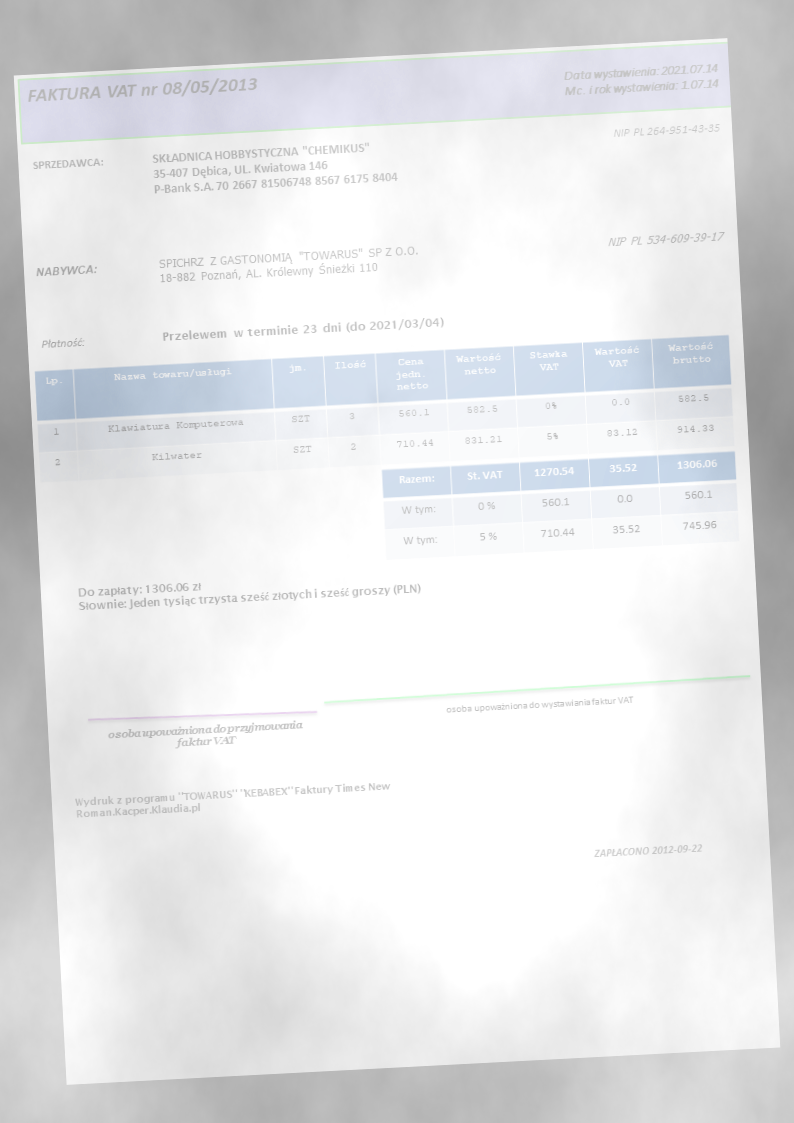Table: (32, 334, 735, 484), (380, 450, 741, 560)
TextBox: (76, 568, 423, 615), (149, 137, 401, 197), (72, 779, 393, 822), (156, 243, 422, 285), (160, 314, 446, 344), (24, 74, 260, 107), (106, 717, 305, 752), (560, 60, 721, 100), (444, 694, 634, 717), (606, 229, 726, 250), (591, 840, 704, 862), (611, 121, 721, 140), (30, 155, 106, 173), (34, 261, 99, 280), (39, 335, 86, 351)
